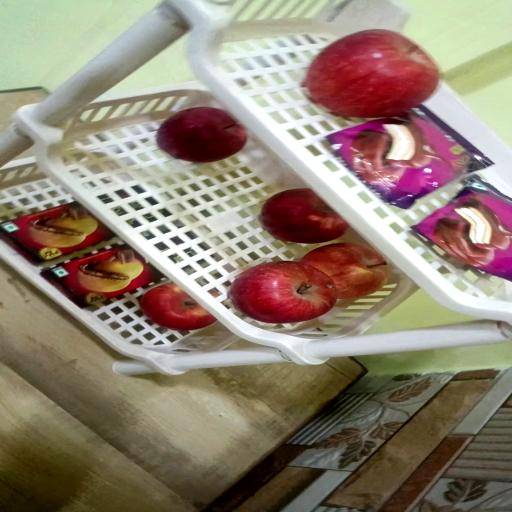Apple: (304, 29, 440, 119), (230, 262, 338, 325), (158, 106, 249, 162), (300, 244, 388, 300), (262, 190, 349, 246), (142, 285, 218, 331)
Choco Fills: (0, 204, 115, 266), (42, 248, 153, 310)
Choco Pie: (328, 105, 493, 208), (411, 178, 510, 282)
